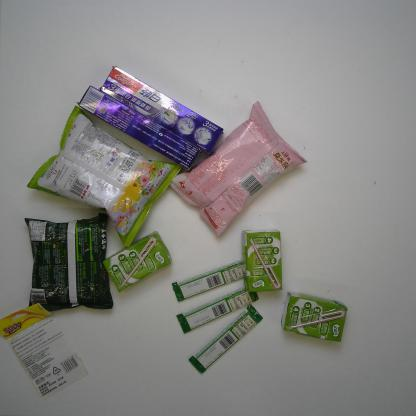Chocolate: (189, 305, 265, 375), (177, 287, 262, 333), (170, 254, 248, 296)
Instant Noodles: (22, 209, 117, 312)
Milk: (103, 232, 168, 292), (282, 290, 346, 344), (240, 226, 287, 295)
Personal Hygiene: (101, 62, 226, 154), (78, 86, 199, 168)
Puffed Food: (31, 102, 179, 240), (169, 98, 310, 234)
Stationery: (2, 295, 93, 403)
